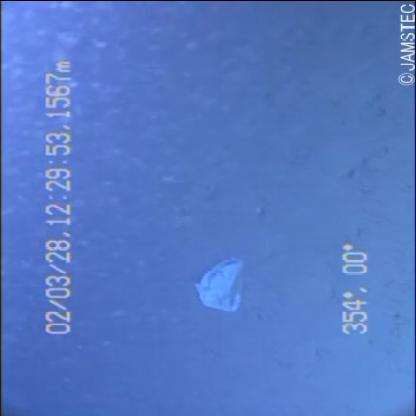Rác: (188, 239, 252, 325)
